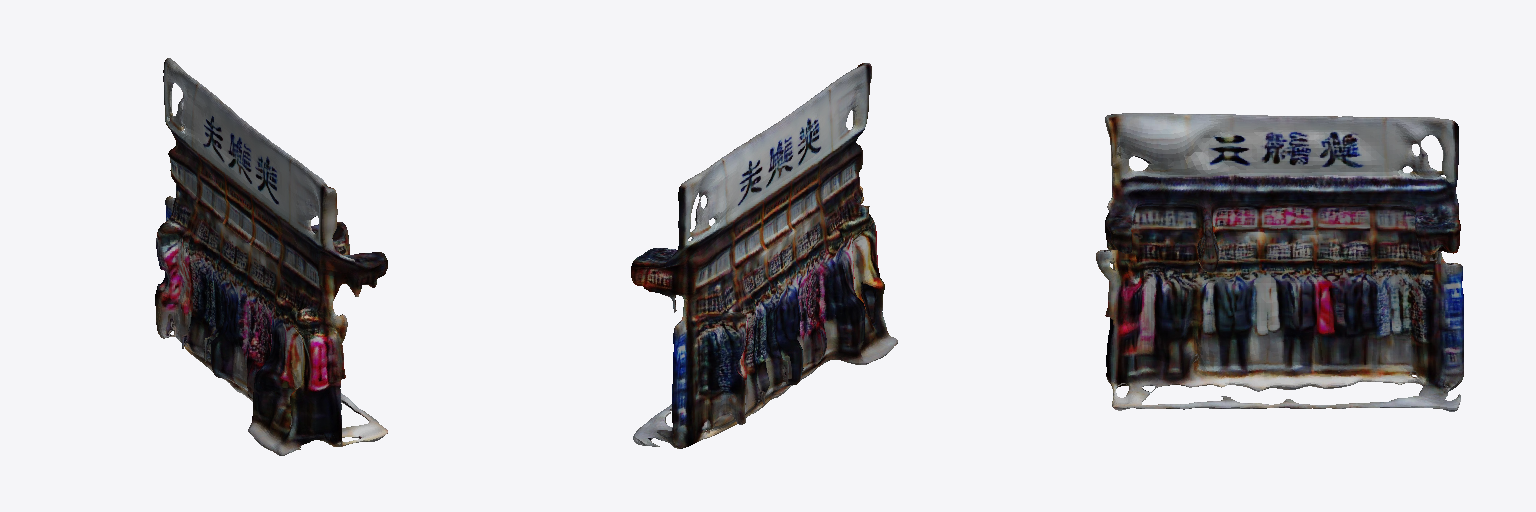
3 views of the same model, side by side, from view 1: azimuth 30°, elevation 25°; view 2: azimuth 150°, elevation 25°; view 3: azimuth 270°, elevation 25° (orthographic).
Visible parts, largest first — view 1: mesh; view 2: mesh; view 3: mesh.
Part boxes in pixels (x1,y1,x2,y2): mesh: (155,58,387,455); mesh: (631,63,897,448); mesh: (1096,113,1463,411).
Bounding box in the file's own units: 0.3556 × 0.8145 × 0.9956.
Materials: 1 (1 with a texture image).